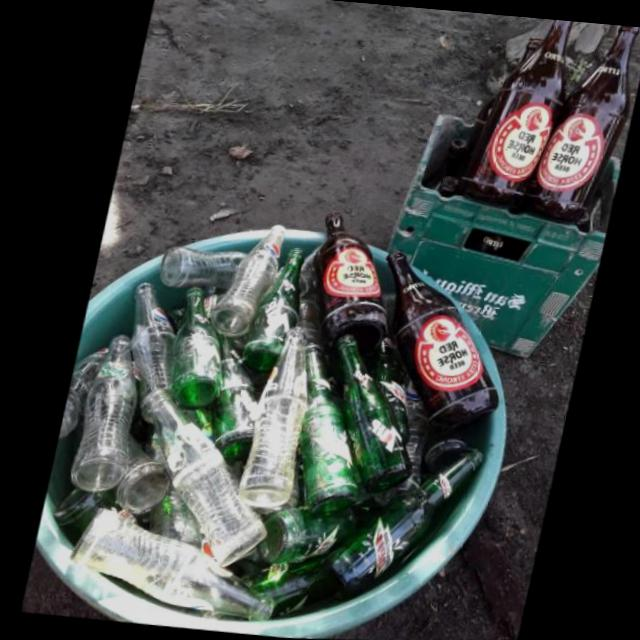chai_thuy_tinh: (67, 510, 274, 625), (517, 26, 631, 231), (138, 391, 264, 571), (328, 456, 479, 600), (454, 19, 567, 210), (380, 255, 494, 434), (330, 339, 408, 499), (235, 331, 303, 512), (306, 216, 382, 359), (67, 337, 133, 495), (296, 348, 355, 517), (205, 228, 279, 341), (237, 251, 298, 376), (371, 377, 424, 511), (253, 511, 370, 567), (166, 291, 217, 413), (205, 338, 253, 466), (126, 284, 170, 400), (362, 337, 406, 451), (109, 436, 167, 517), (54, 350, 103, 443), (153, 249, 241, 292)
